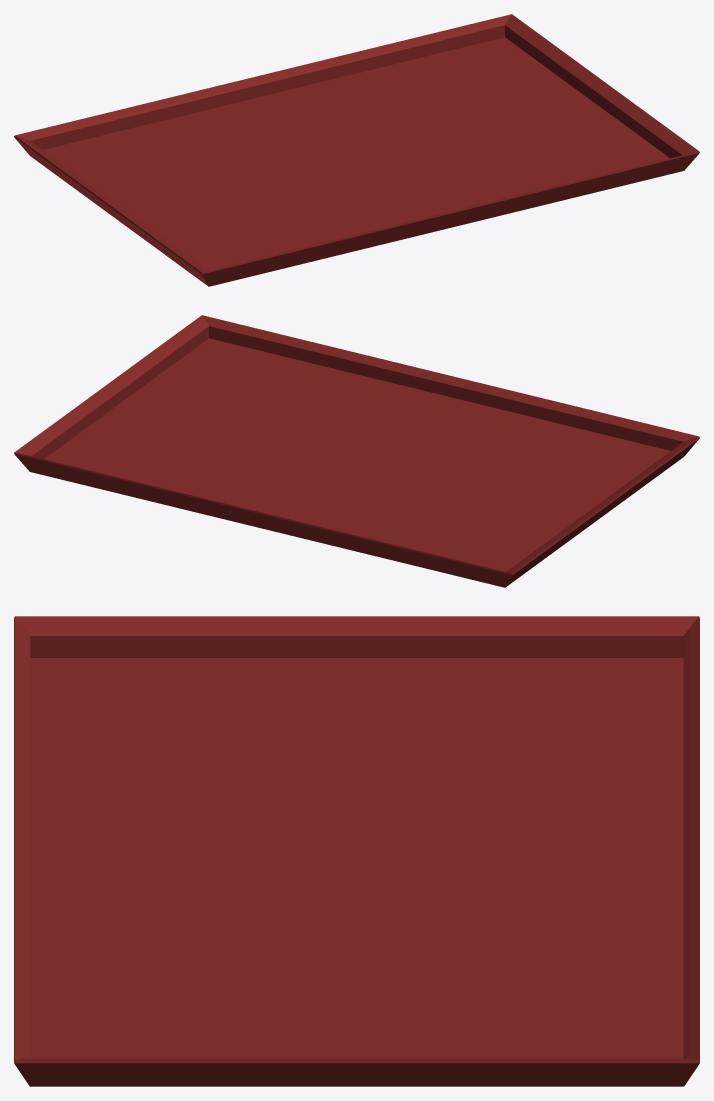
Rendered from Bandeja.fbx.
3 renders of one model, top to bottom at view 1: azimuth 30°, elevation 25°; view 2: azimuth 150°, elevation 25°; view 3: azimuth 270°, elevation 25°, orthographic. The views are drawn at different scales.
Parts seen in each view (by area): view 1: Bandeja; view 2: Bandeja; view 3: Bandeja.
Part boxes in pixels (left/top/right/bottom): Bandeja: left=14, top=14, right=699, bottom=286; Bandeja: left=14, top=315, right=699, bottom=587; Bandeja: left=14, top=616, right=699, bottom=1086.
Size of the model in its own units: 0.6853 by 0.0263 by 0.4472.
